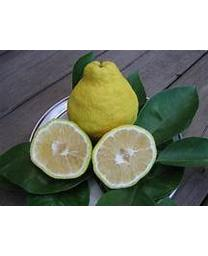lemon: (67, 62, 138, 140), (92, 126, 157, 189), (29, 118, 92, 180)
